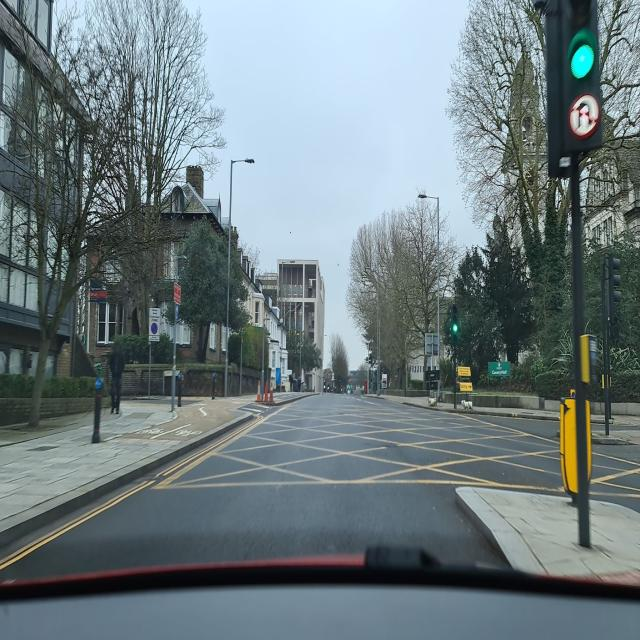forb_stopping: (151, 323, 157, 334)
